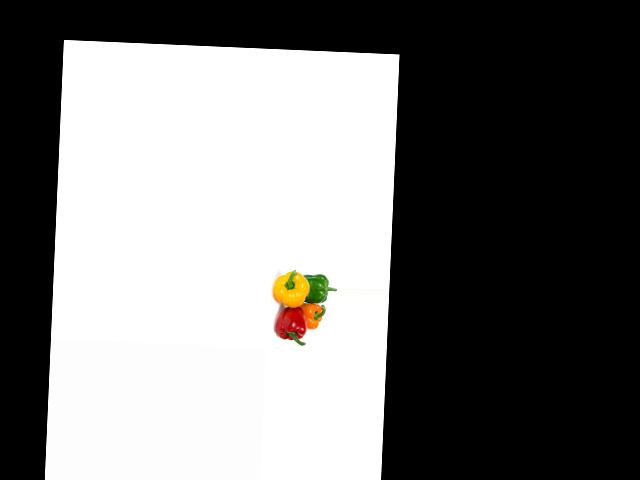bell_pepper: (270, 266, 310, 309)
